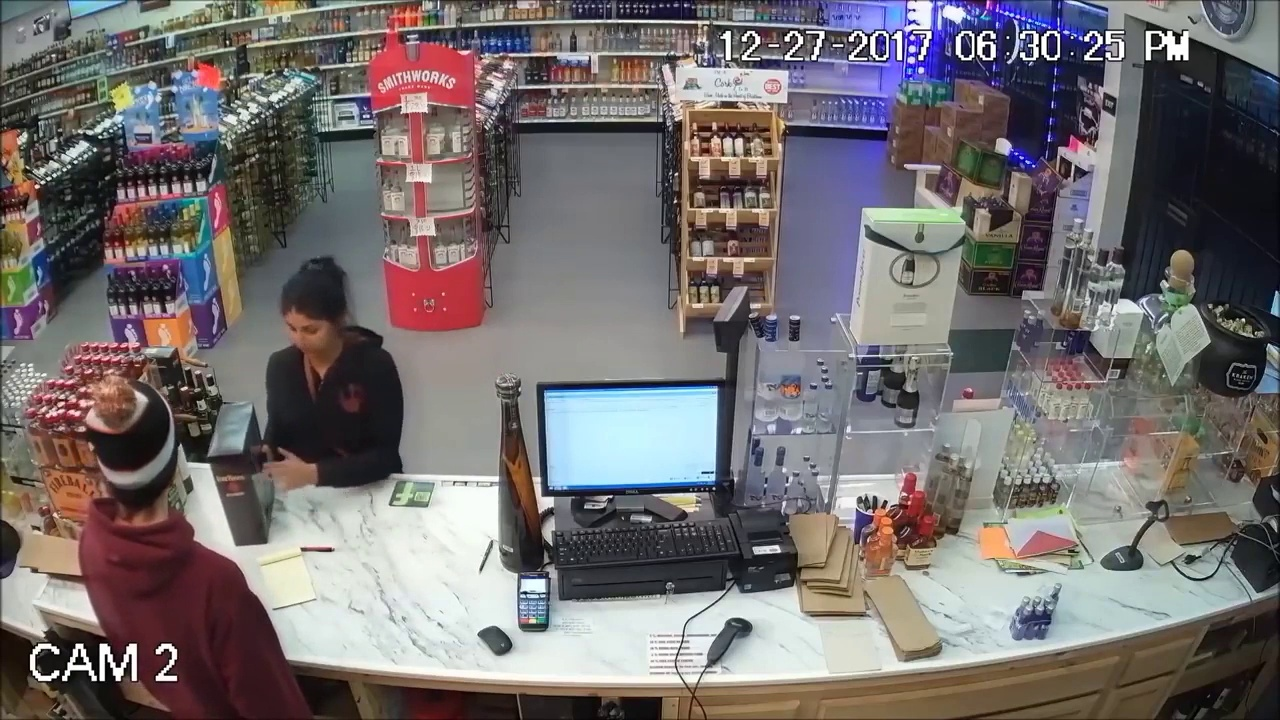face: (283, 310, 329, 356)
